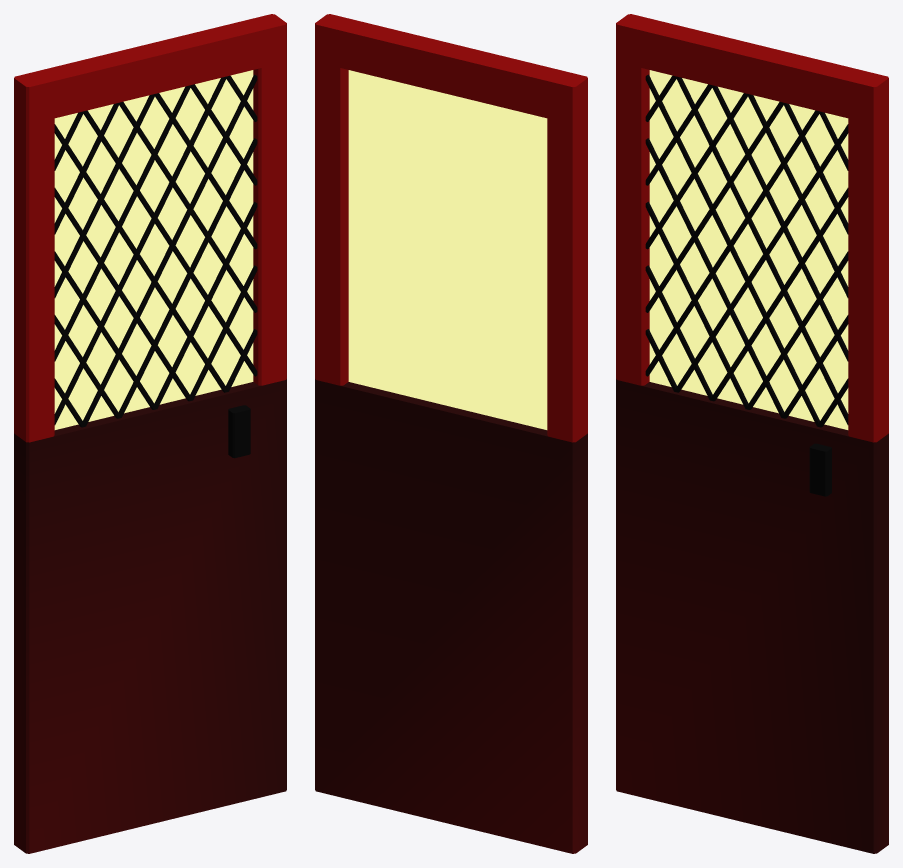
Rendered from SilverbrookTownhouse5_Door2.fbx.
3 renders of one model, left to right at view 1: azimuth 30°, elevation 25°; view 2: azimuth 150°, elevation 25°; view 3: azimuth 330°, elevation 25°, orthographic.
Visible parts, largest first — view 1: SM_SBTownhouse5_Door2_Part; view 2: SM_SBTownhouse5_Door2_Part; view 3: SM_SBTownhouse5_Door2_Part.
Boxes of the visible parts, <box> form: SM_SBTownhouse5_Door2_Part: <box>14,14,286,853</box>; SM_SBTownhouse5_Door2_Part: <box>315,14,587,853</box>; SM_SBTownhouse5_Door2_Part: <box>616,14,888,853</box>.
Bounding box in the file's own units: 73 × 205 × 10.
